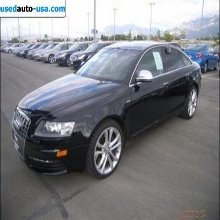no damage: (12, 41, 203, 178)
